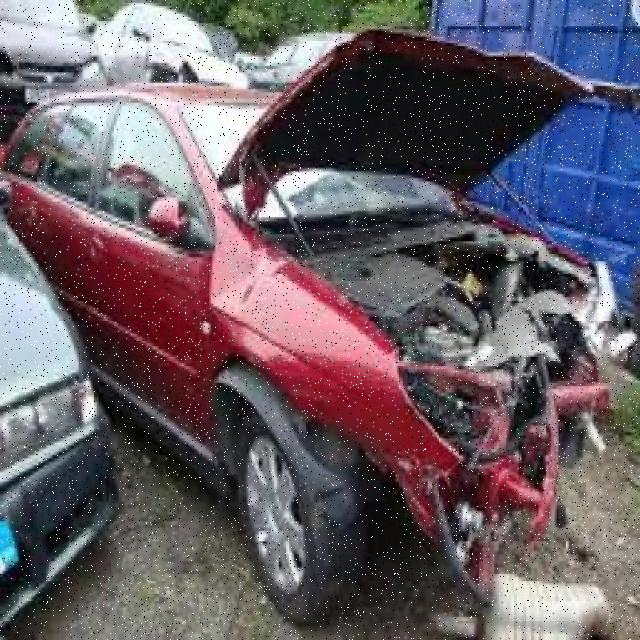damage: (204, 234, 616, 588)
